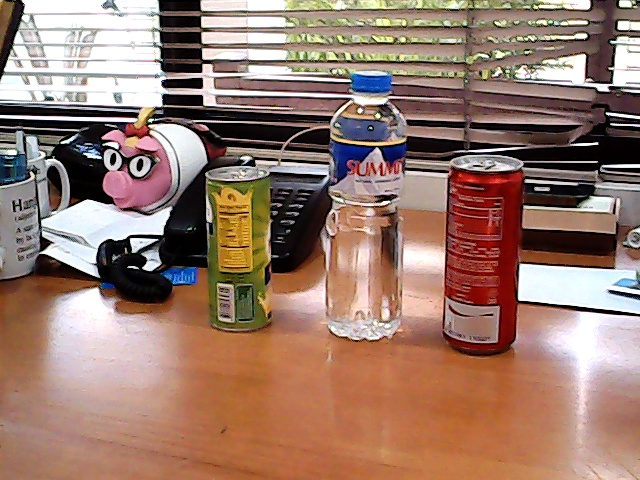Cola: (437, 150, 537, 361)
Pine Juice: (201, 163, 276, 338)
Summit Water: (320, 66, 413, 341)
